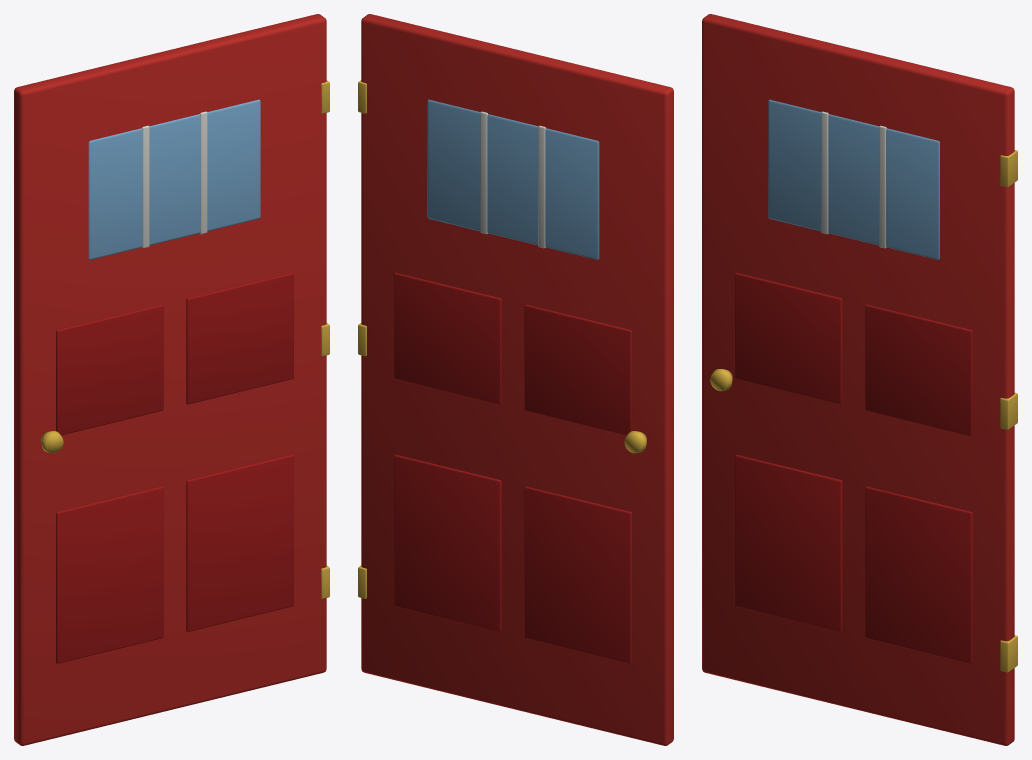
The model's file is door_front.glb.
3 views of the same model, side by side, from view 1: azimuth 30°, elevation 25°; view 2: azimuth 150°, elevation 25°; view 3: azimuth 330°, elevation 25° (orthographic).
Parts seen in each view (by area): view 1: door_front; view 2: door_front; view 3: door_front.
Boxes of the visible parts, <box> form: door_front: <box>14,14,329,745</box>; door_front: <box>358,14,673,745</box>; door_front: <box>702,14,1017,745</box>.
Bounding box in the file's own units: 1.06 × 2.16 × 0.145.
